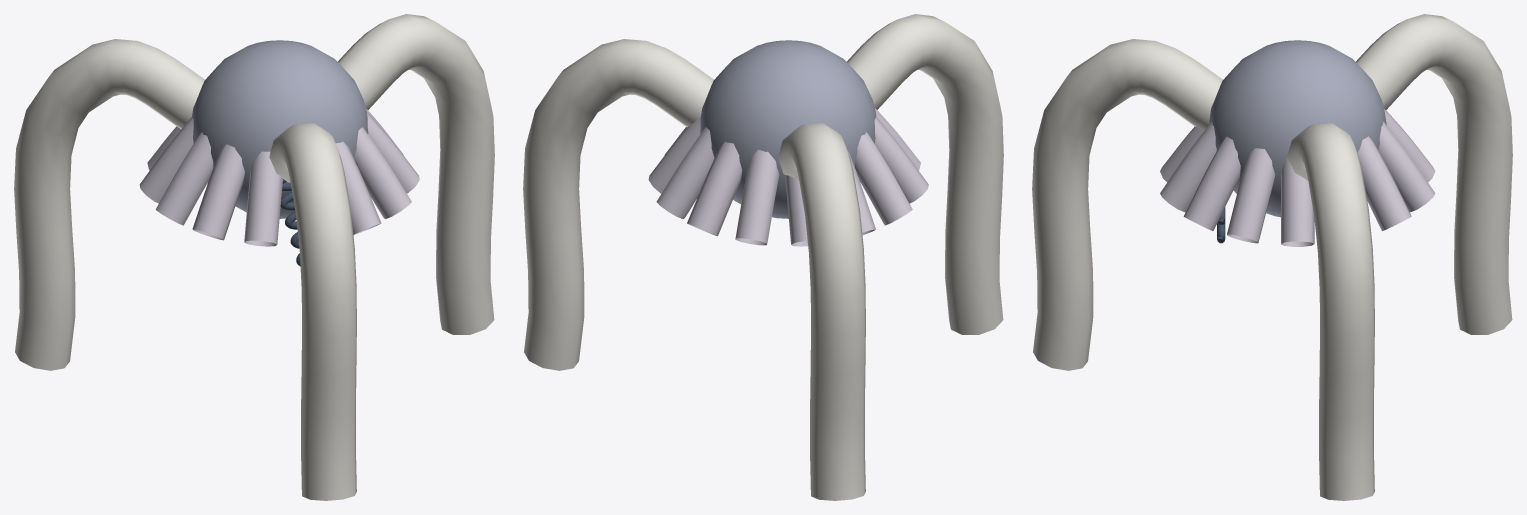
The model's file is bio_tripod_bell_09_near.glb.
3 renders of one model, left to right at view 1: azimuth 30°, elevation 25°; view 2: azimuth 150°, elevation 25°; view 3: azimuth 270°, elevation 25°, orthographic.
Visible parts, largest first — view 1: Arched tripod.001, Arched tripod, Arched tripod.002, Hanging bell core, Flared rib.008, Flared rib.009, Flared rib.007, Flared rib.012, Flared rib.006, Flared rib.011, Flared rib.013, Underside pressure folds; view 2: Arched tripod, Arched tripod.002, Arched tripod.001, Hanging bell core, Flared rib.004, Flared rib.003, Flared rib.007, Flared rib.002, Flared rib.008, Flared rib.001, Flared rib.005, Flared rib.006; view 3: Arched tripod.002, Arched tripod.001, Arched tripod, Hanging bell core, Flared rib.013, Flared rib.012, Flared rib.002, Flared rib, Flared rib.011, Flared rib.003, Flared rib.004, Flared rib.010.
Boxes of the visible parts, bbox=[...] form: Arched tripod.001: bbox=[14, 39, 204, 370]; Arched tripod: bbox=[338, 14, 494, 334]; Arched tripod.002: bbox=[269, 123, 356, 500]; Hanging bell core: bbox=[192, 40, 368, 218]; Flared rib.008: bbox=[192, 144, 244, 240]; Flared rib.009: bbox=[244, 151, 282, 246]; Flared rib.007: bbox=[156, 132, 213, 225]; Flared rib.012: bbox=[354, 127, 411, 219]; Flared rib.006: bbox=[139, 117, 193, 203]; Flared rib.011: bbox=[336, 141, 381, 235]; Flared rib.013: bbox=[366, 111, 419, 193]; Underside pressure folds: bbox=[280, 159, 357, 266]; Arched tripod: bbox=[523, 39, 713, 370]; Arched tripod.002: bbox=[847, 14, 1003, 334]; Arched tripod.001: bbox=[778, 123, 865, 500]; Hanging bell core: bbox=[700, 40, 876, 218]; Flared rib.004: bbox=[735, 149, 779, 245]; Flared rib.003: bbox=[687, 141, 742, 236]; Flared rib.007: bbox=[855, 132, 912, 225]; Flared rib.002: bbox=[656, 127, 714, 218]; Flared rib.008: bbox=[874, 116, 928, 203]; Flared rib.001: bbox=[648, 116, 700, 193]; Flared rib.005: bbox=[785, 175, 807, 246]; Flared rib.006: bbox=[847, 150, 875, 235]; Arched tripod.002: bbox=[1032, 39, 1222, 370]; Arched tripod.001: bbox=[1356, 14, 1512, 334]; Arched tripod: bbox=[1287, 123, 1374, 500]; Hanging bell core: bbox=[1209, 40, 1386, 217]; Flared rib.013: bbox=[1227, 148, 1275, 243]; Flared rib.012: bbox=[1183, 136, 1240, 230]; Flared rib.002: bbox=[1357, 136, 1411, 231]; Flared rib: bbox=[1281, 158, 1314, 246]; Flared rib.011: bbox=[1160, 121, 1216, 212]; Flared rib.003: bbox=[1378, 121, 1435, 212]; Flared rib.004: bbox=[1384, 109, 1435, 182]; Flared rib.010: bbox=[1160, 126, 1204, 182].
Size of the model in its own units: 2.5 by 2.05 by 2.57.
